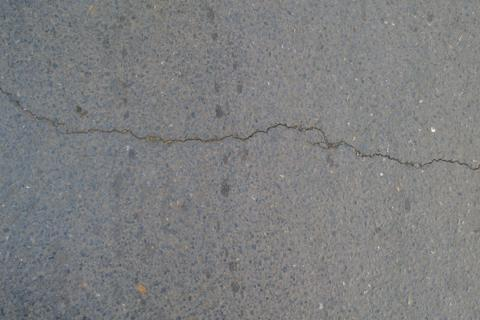crack: (1, 85, 479, 172)
